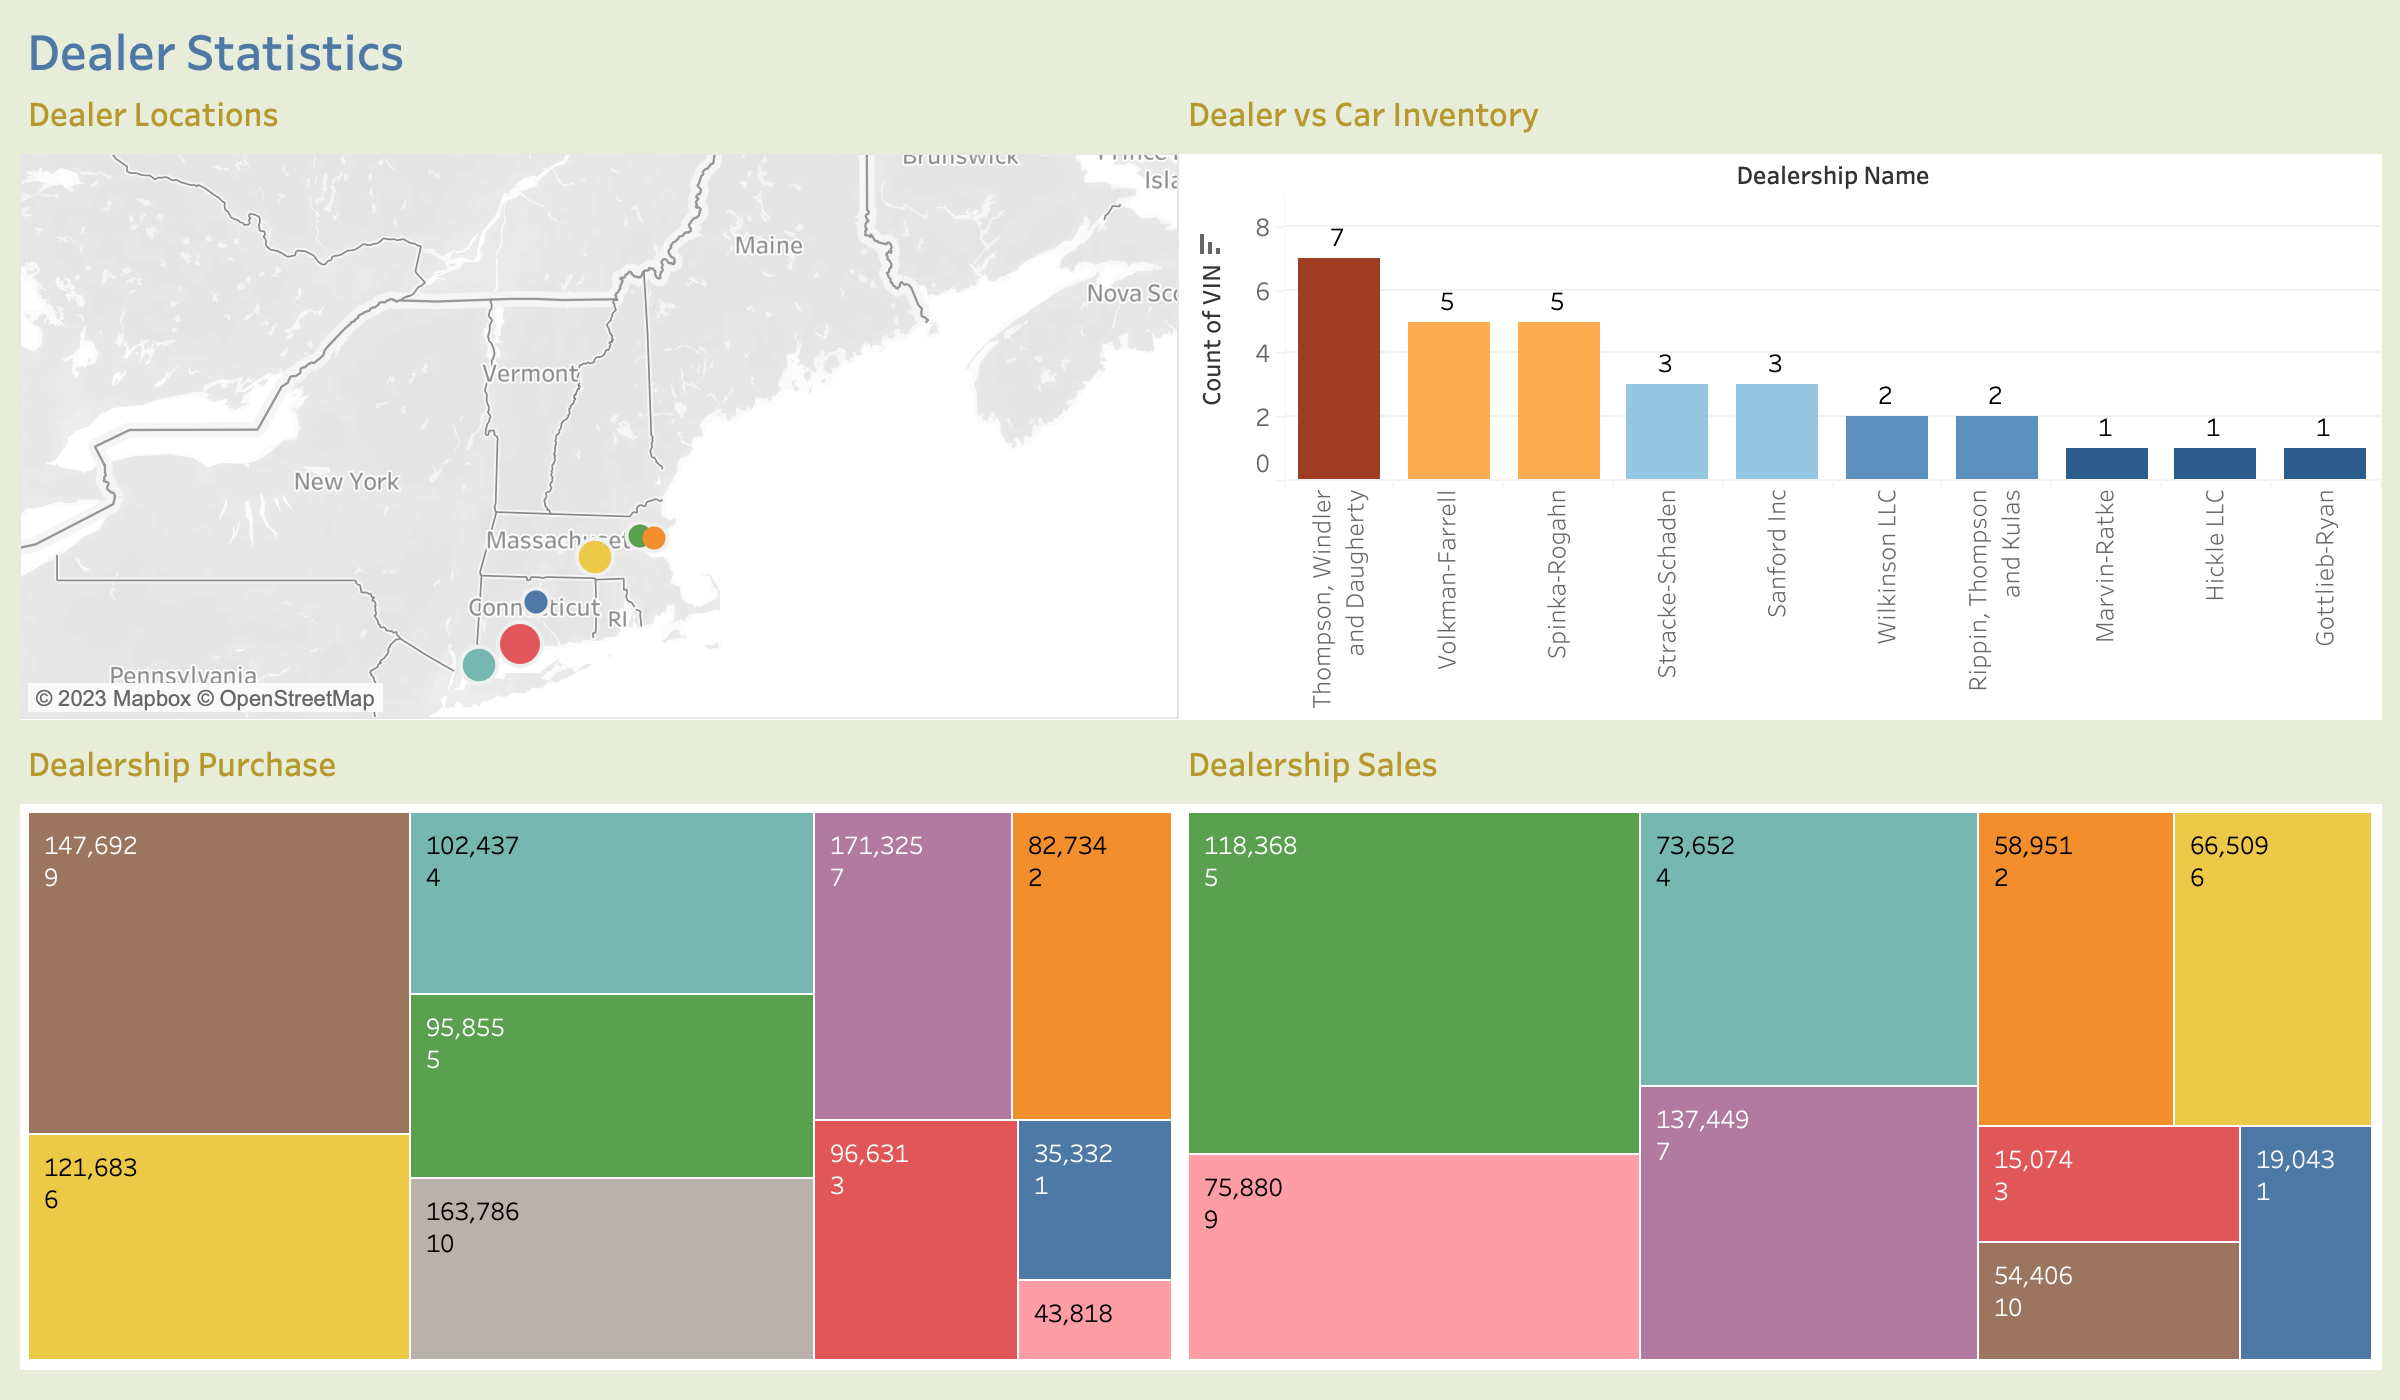

What the dashboard file says about the page in this screenshot:
{"tool":"tableau","page":{"name":"Dealer Dashboard","canvas":[1200,700],"ordinal":1},"visuals":[{"type":"text","box":[11,5,479,40]},{"type":"worksheet","title":"Dealer Locations","mark":"Automatic","box":[10,40,580,320]},{"type":"worksheet","title":"Dealer vs Car Inventory","mark":"Automatic","rows":["VIN"],"cols":["DealershipName"],"box":[590,40,600,320]},{"type":"worksheet","title":"Dealership Purchase","mark":"Automatic","box":[10,365,580,320]},{"type":"worksheet","title":"Dealership Sales","mark":"Automatic","box":[590,365,600,320]}]}

Visuals, with their boxes in screenshot pixels (x1, y1, x2, y2), scaled from the page's 1200x700 canvas onto the 2400x1400 screenshot:
text: locate(22, 10, 980, 90)
"Dealer Locations" worksheet: locate(20, 80, 1180, 720)
"Dealer vs Car Inventory" worksheet: locate(1180, 80, 2380, 720)
"Dealership Purchase" worksheet: locate(20, 730, 1180, 1370)
"Dealership Sales" worksheet: locate(1180, 730, 2380, 1370)
